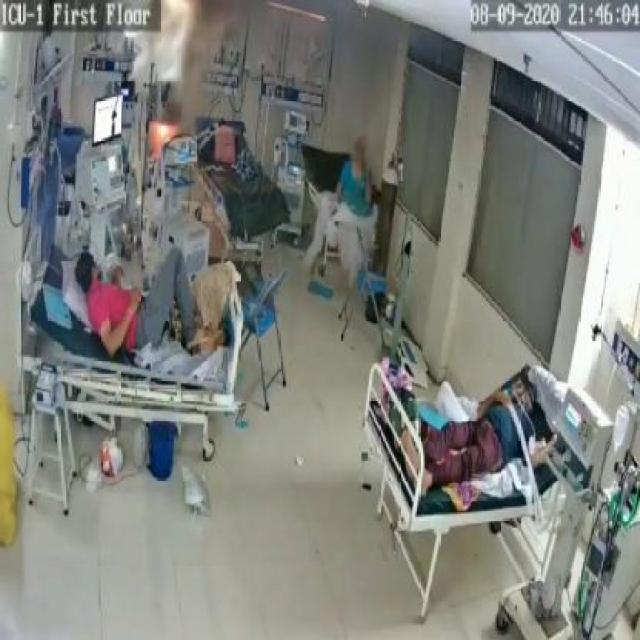fire: (151, 122, 177, 146)
smoke: (161, 4, 214, 104)
